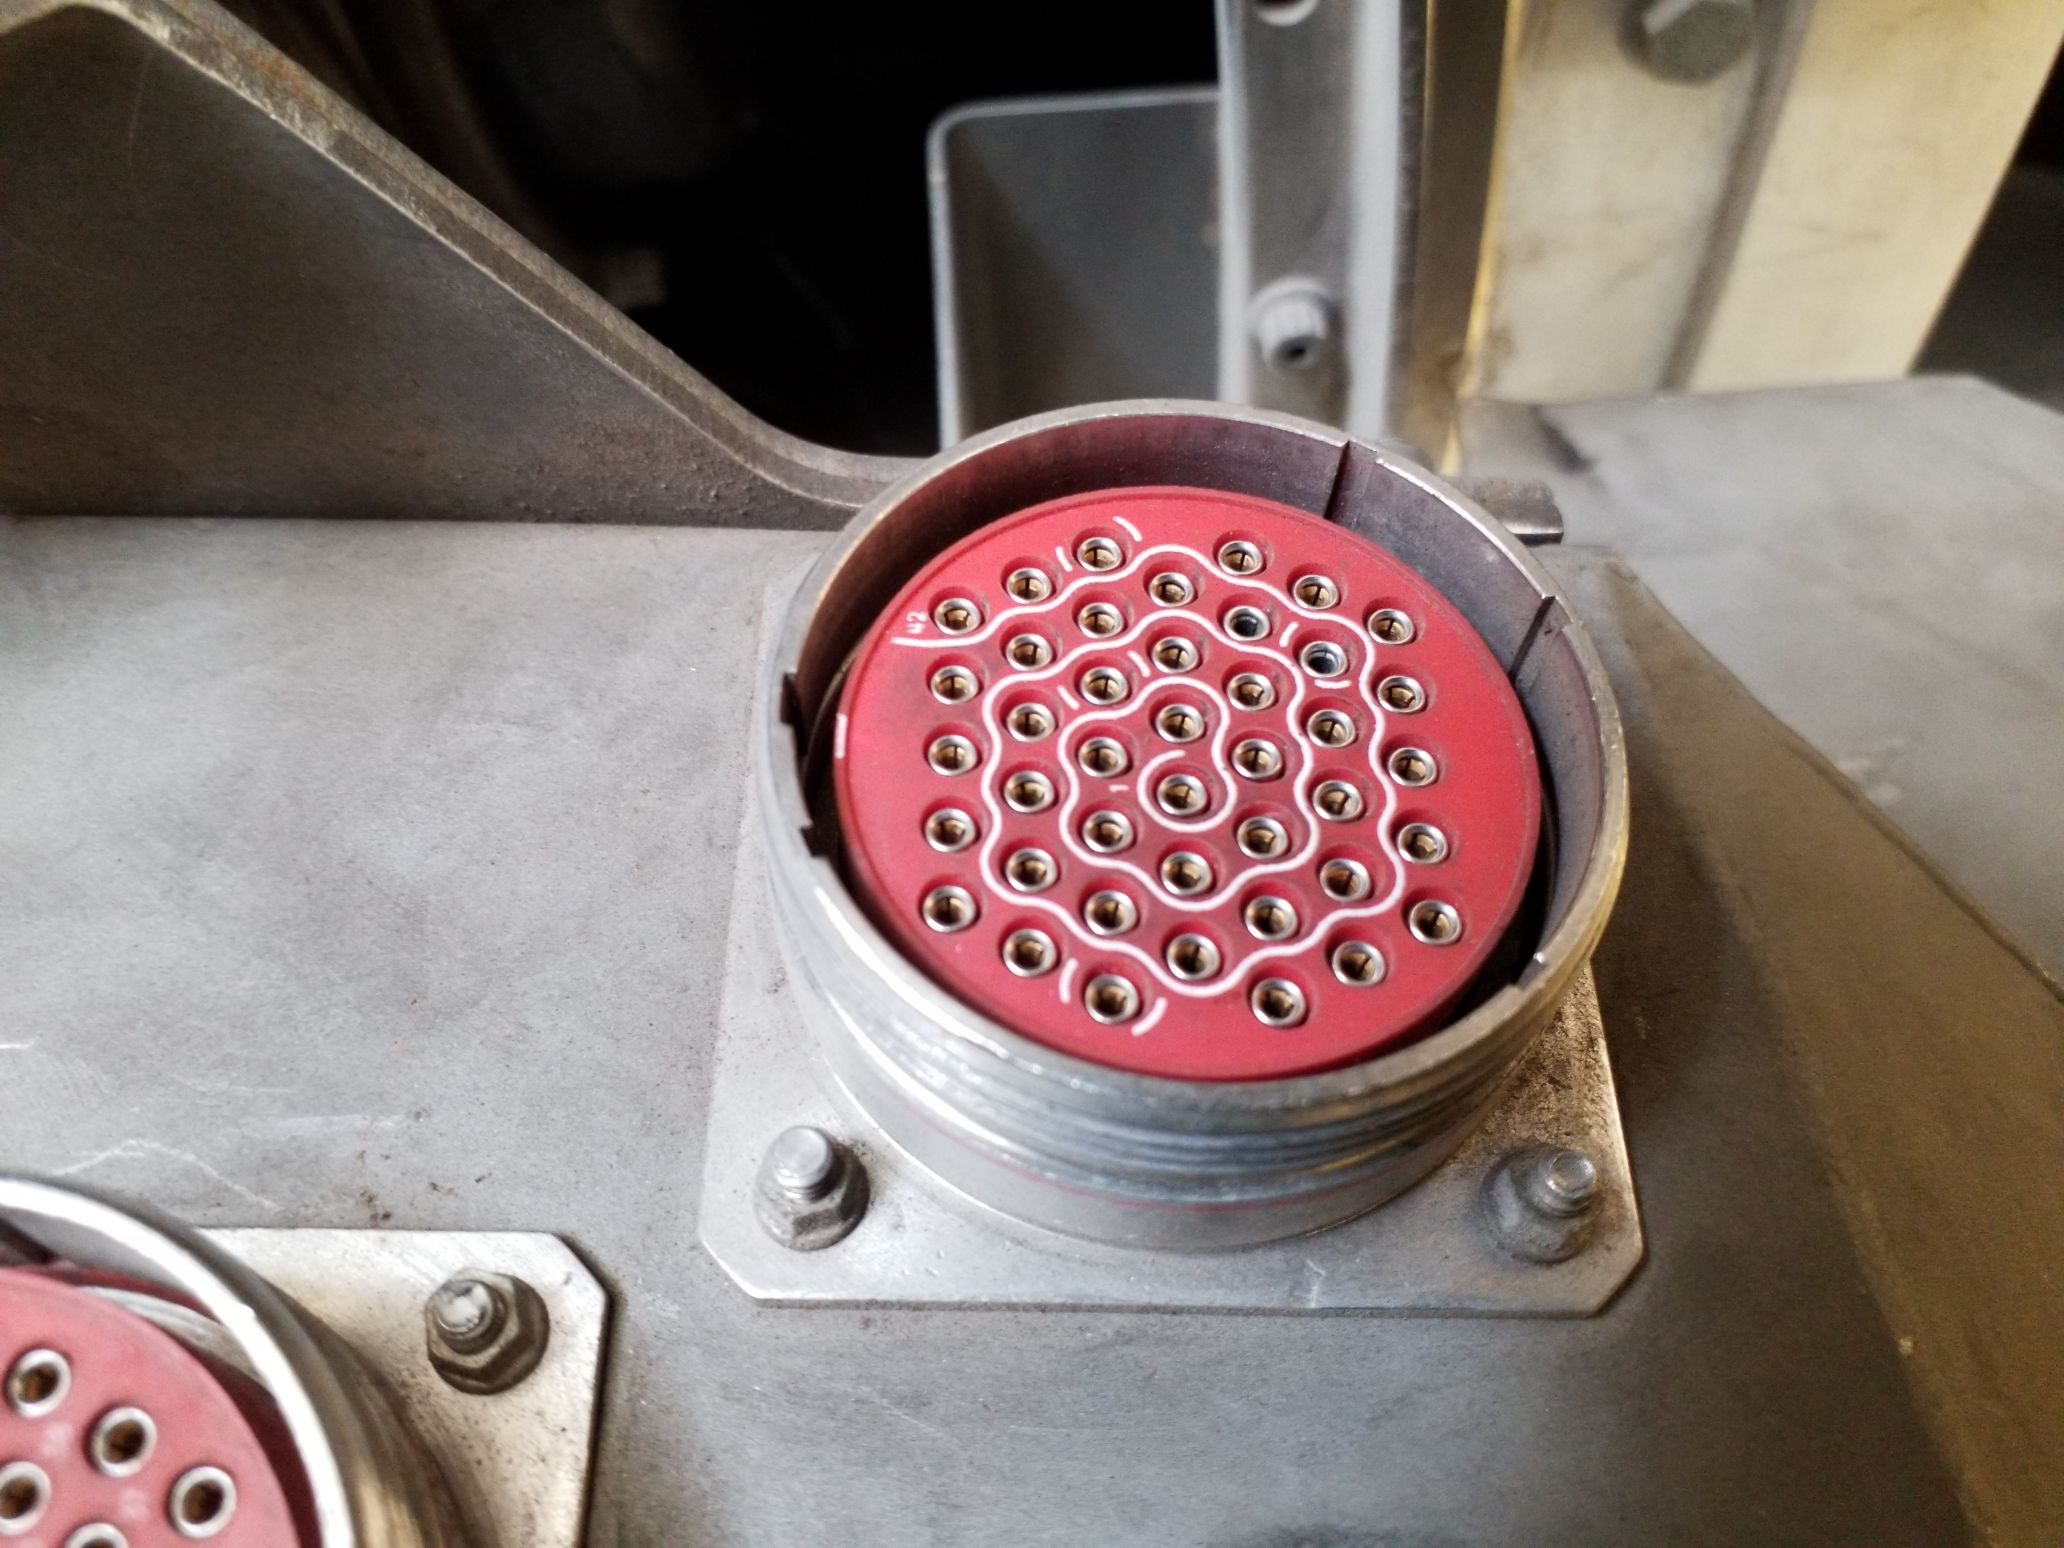inletround: (749, 389, 1658, 1159)
